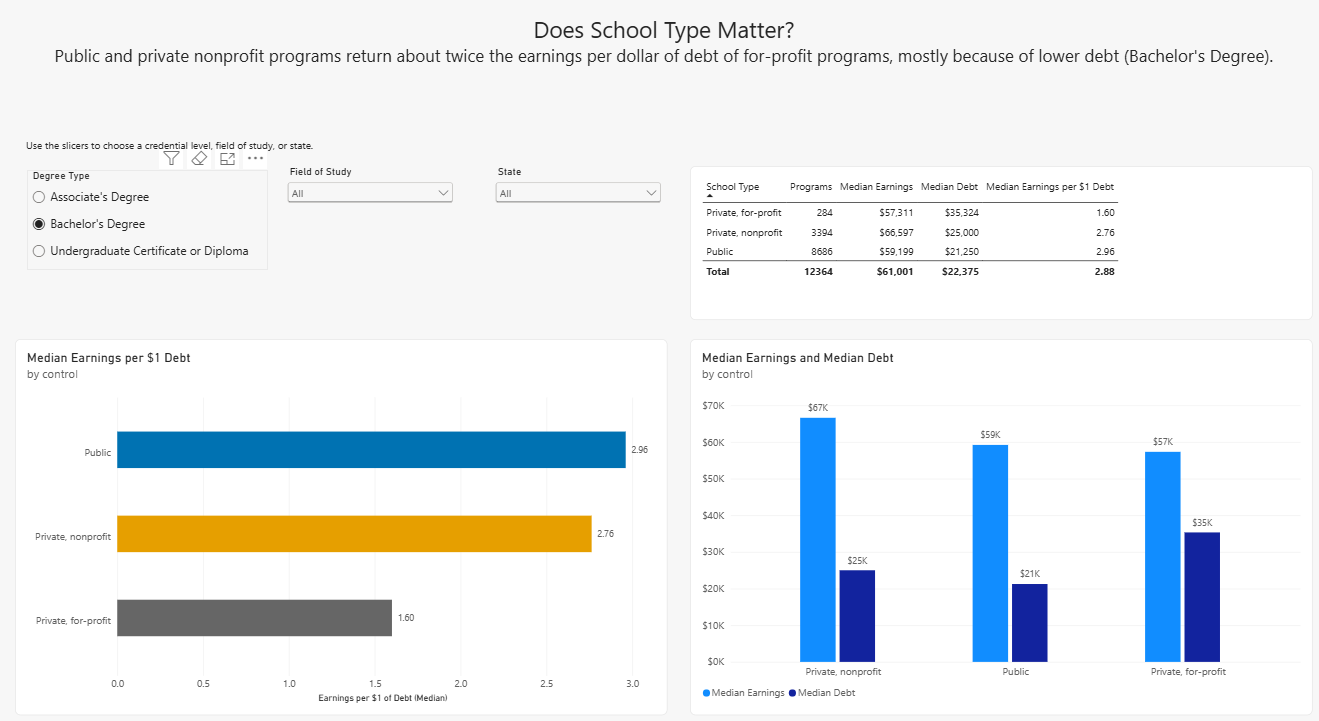

The dashboard page shown, as its layout file describes it:
{"tool":"powerbi","page":{"name":"Public vs Private","canvas":[1920,1080],"ordinal":2},"visuals":[{"type":"slicer","fields":{"Values":["vw_high_risk.CREDDESC"]},"box":[57.4,255.3,340.4,140.4],"z":0},{"type":"slicer","fields":{"Values":["vw_high_risk.state"]},"box":[712.8,248.9,242.6,76.6],"z":1000},{"type":"slicer","fields":{"Values":["vw_high_risk.CIPDESC"]},"box":[419.1,248.9,242.6,76.6],"z":2000},{"type":"clusteredBarChart","fields":{"Category":["vw_high_risk.control"],"Y":["vw_high_risk.Median Earnings per $1 Debt"]},"box":[40.4,493.6,919.1,529.8],"z":4000},{"type":"clusteredColumnChart","fields":{"Category":["vw_high_risk.control"],"Y":["vw_high_risk.Median Earnings","vw_high_risk.Median Debt"]},"box":[991.5,493.6,876.6,529.8],"z":5000},{"type":"tableEx","fields":{"Values":["vw_high_risk.control","vw_high_risk.Programs","vw_high_risk.Median Earnings","vw_high_risk.Median Debt","vw_high_risk.Median Earnings per $1 Debt"]},"box":[991.5,248.9,876.6,217],"z":6000},{"type":"textbox","box":[40.4,34,1827.7,151.1],"z":7000},{"type":"textbox","box":[56.6,209.9,898.7,40.1],"z":8000},{"type":"textbox","box":[40.8,1038,508.5,31],"z":10000}]}

Visuals, with their boxes in screenshot pixels (x1, y1, x2, y2), scaled from the page's 1920x1080 canvas onto the 1319x721 screenshot:
slicer - vw_high_risk.CREDDESC: [39,170,273,264]
slicer - vw_high_risk.state: [490,166,656,217]
slicer - vw_high_risk.CIPDESC: [288,166,455,217]
clusteredBarChart - vw_high_risk.control x vw_high_risk.Median Earnings per $1 Debt: [28,330,659,683]
clusteredColumnChart - vw_high_risk.control x vw_high_risk.Median Earnings: [681,330,1283,683]
tableEx - vw_high_risk.control x vw_high_risk.Programs: [681,166,1283,311]
textbox: [28,23,1283,124]
textbox: [39,140,656,167]
textbox: [28,693,377,714]
